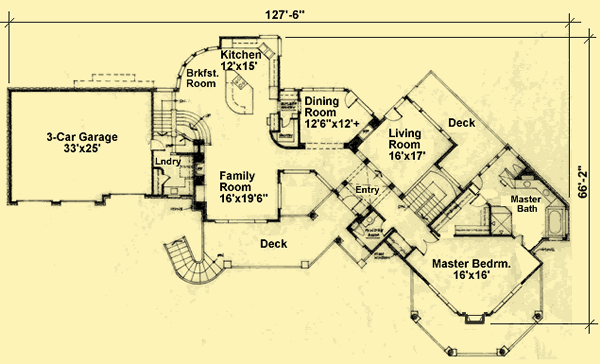door: (417, 231, 440, 256), (341, 193, 364, 212), (383, 105, 404, 123), (148, 137, 165, 154), (345, 90, 358, 110), (472, 172, 485, 190), (280, 115, 291, 128), (161, 173, 172, 184)
kitchen bar: (220, 67, 257, 115)
large sink: (355, 223, 368, 237)
small sink: (362, 211, 378, 226), (517, 180, 541, 189)
stairs: (162, 232, 227, 288), (405, 169, 460, 224), (149, 89, 179, 140)
tub: (544, 206, 566, 239)
twin sink: (259, 40, 274, 61)
windows: (426, 281, 460, 316), (486, 280, 523, 312), (14, 198, 100, 210), (212, 216, 269, 226), (105, 190, 147, 201), (299, 84, 347, 93), (280, 166, 312, 178)
